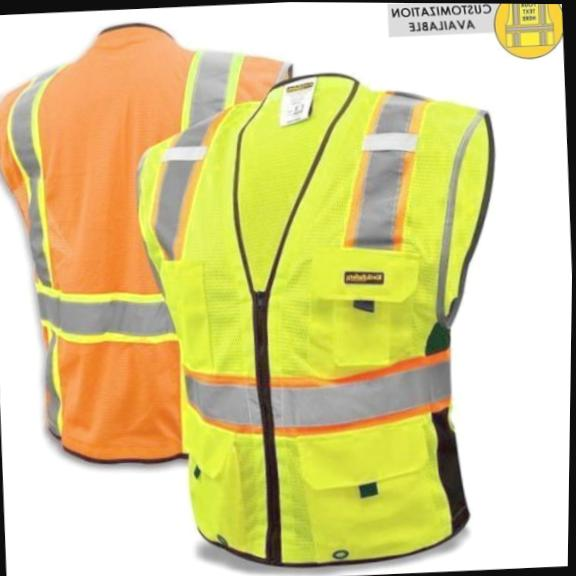safety_vest: (124, 61, 535, 576), (0, 16, 324, 471)
